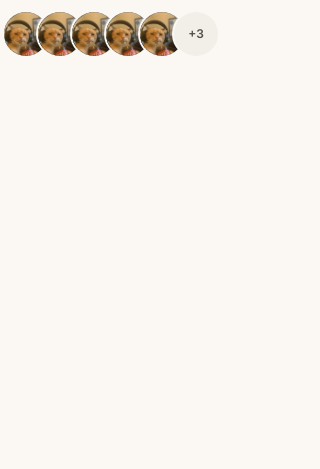
SuggestedUsersGroup › el contador despliega la columna con todos y sus usernames
This screenshot has width=320, height=469.
Click the button "+3" at x=196, y=34, box [174, 12, 218, 56]
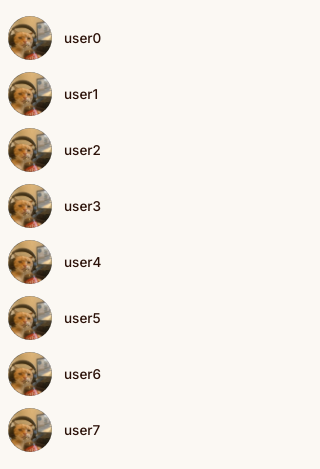
Check: the number of pictures is 8
Check: the button "+3" is gone
Check: the text "user7" is shown, box [64, 420, 100, 440]
